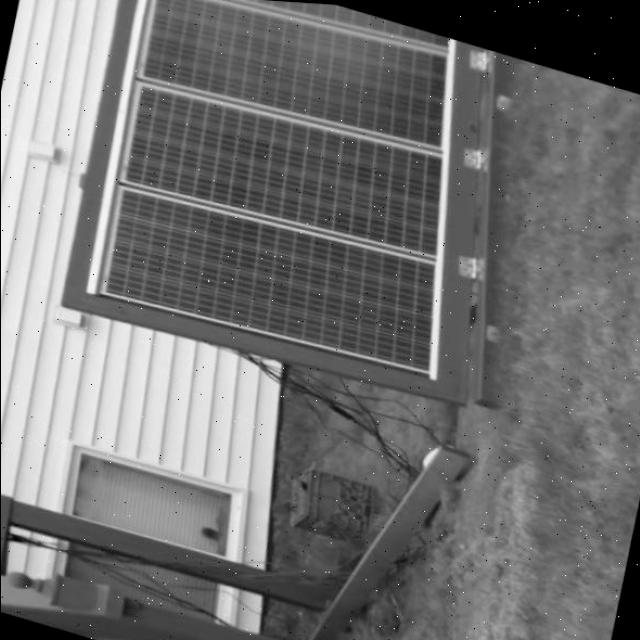Normal Solar Panel: (80, 0, 503, 385), (140, 0, 459, 153), (157, 0, 447, 54)
